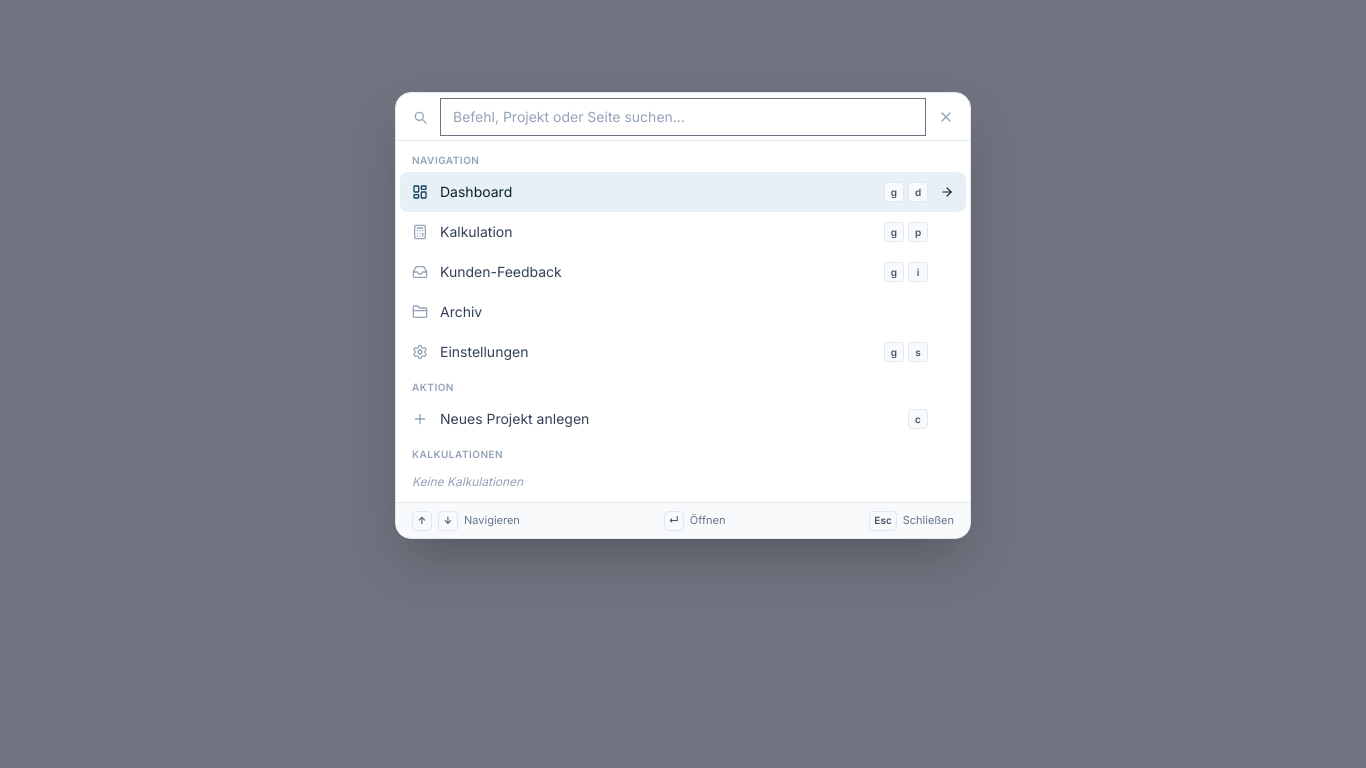
Scenario: CommandPalette.tsx — filtering › typing "kalk" narrows the list to Kalkulation
Type "kalk" into the field with placeholder "Befehl, Projekt oder Seite suchen…". click: (683, 117)
box: 440,98 -> 926,136
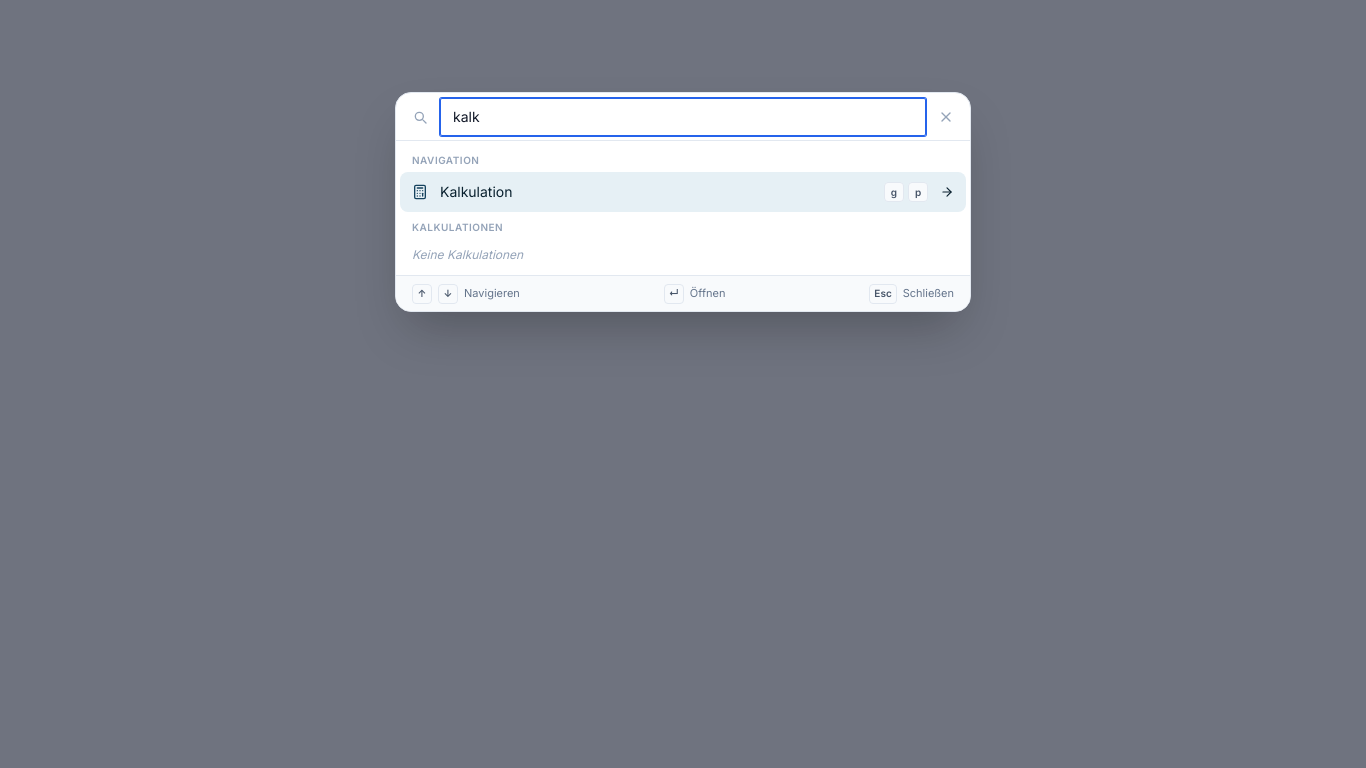
Expected: the text "Kalkulation" is shown, 440,183 -> 512,200
Expected: the button "Archiv" is gone
